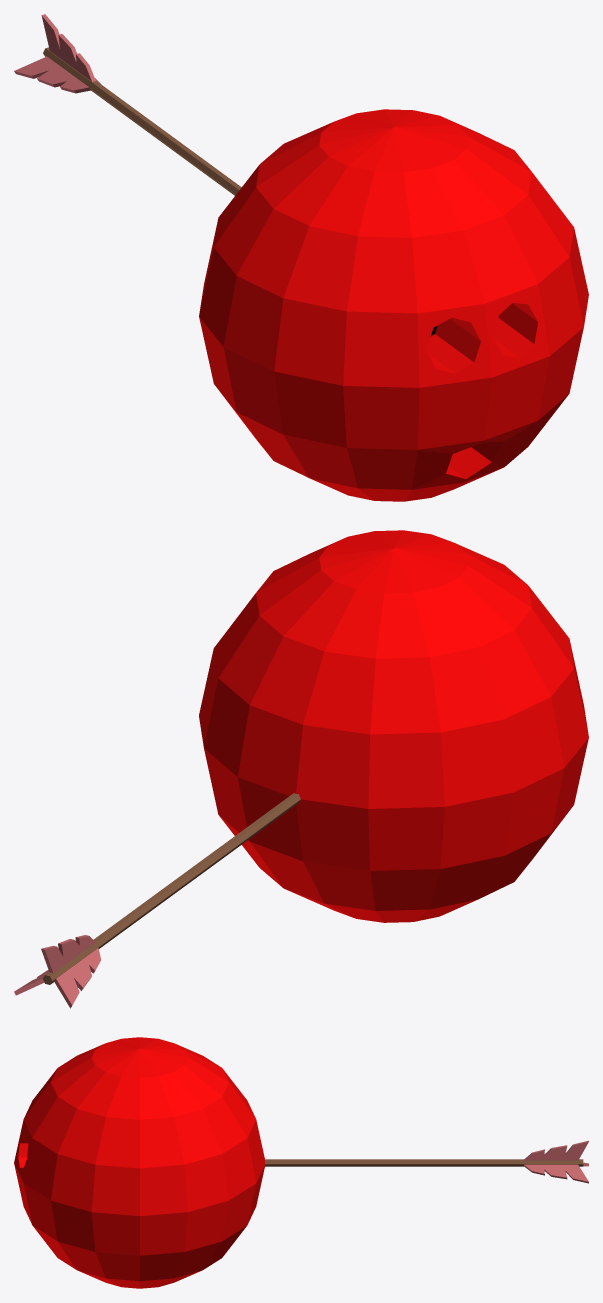
The model's file is Boling_arrow_2.fbx.
3 renders of one model, top to bottom at view 1: azimuth 30°, elevation 25°; view 2: azimuth 150°, elevation 25°; view 3: azimuth 270°, elevation 25°, orthographic. The views are drawn at different scales.
Visible parts, largest first — view 1: Arrow.001; view 2: Arrow.001; view 3: Arrow.001.
Boxes of the visible parts, x1,y1,x2,y2 form: Arrow.001: [14, 14, 588, 501]; Arrow.001: [14, 530, 588, 1008]; Arrow.001: [14, 1037, 588, 1288].
Size of the model in its own units: 160 by 160 by 365.
